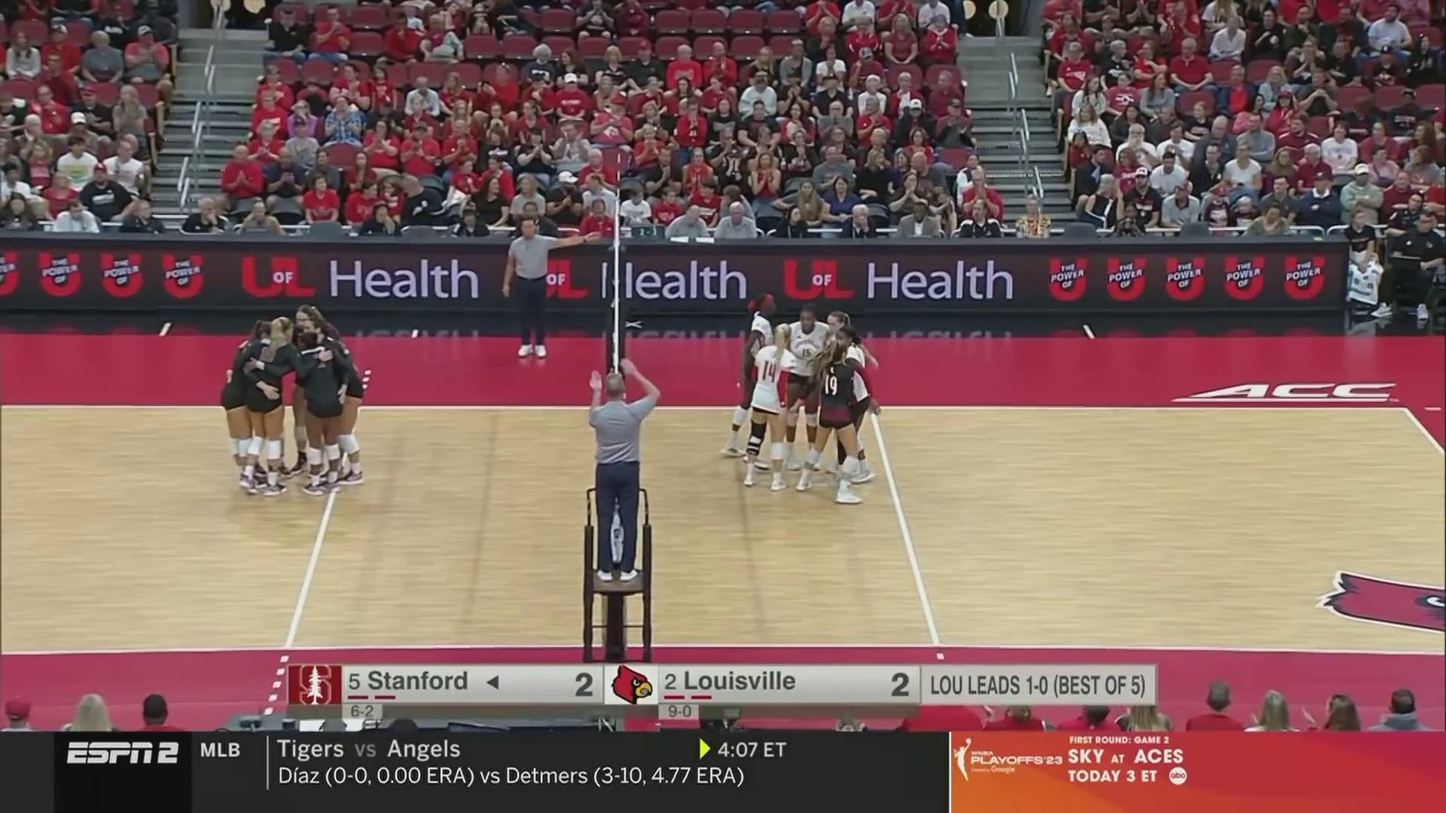player: (721, 295, 784, 463), (742, 326, 802, 494), (802, 347, 863, 500), (774, 303, 826, 471), (309, 319, 362, 483), (286, 303, 335, 478), (817, 306, 865, 484), (293, 331, 343, 497), (223, 321, 272, 490), (829, 322, 874, 489), (252, 319, 290, 494), (258, 319, 295, 478)
refree: (589, 364, 655, 579), (503, 219, 591, 361)
